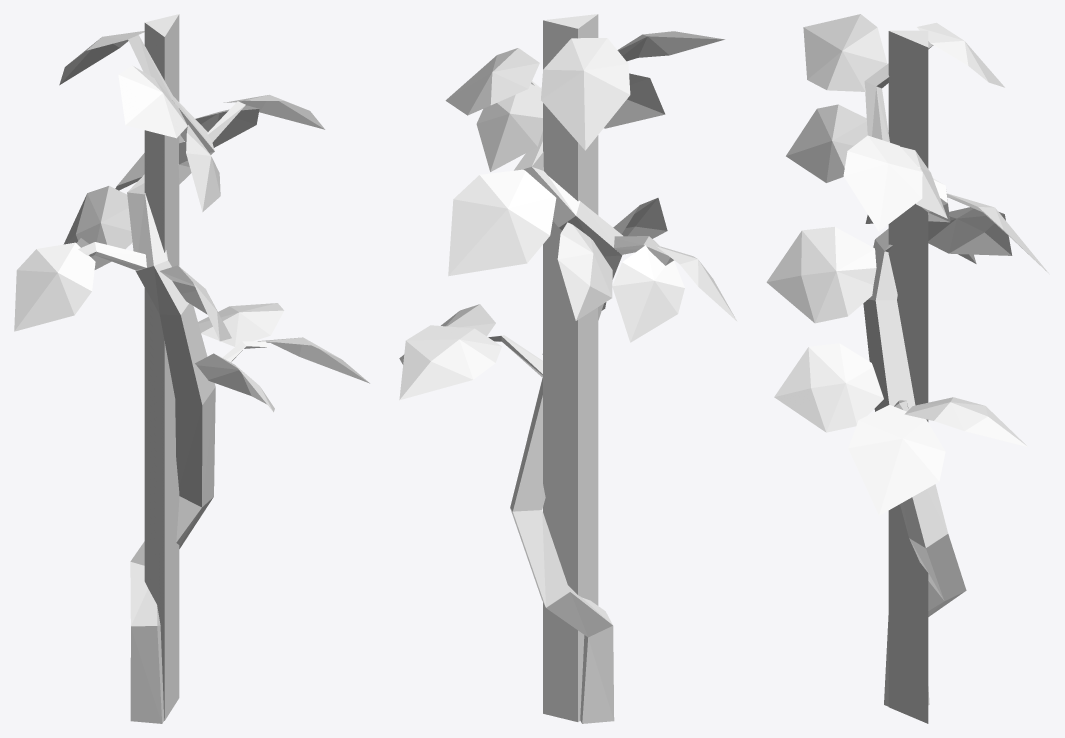
File: Crop_Bean_STAGE_4_01.glb
The picture shows the model from 3 angles, left to right: view 1: azimuth 30°, elevation 25°; view 2: azimuth 150°, elevation 25°; view 3: azimuth 270°, elevation 25°; orthographic projection. The views are drawn at different scales.
Visible parts, largest first — view 1: Crop_Bean_STAGE_4_01; view 2: Crop_Bean_STAGE_4_01; view 3: Crop_Bean_STAGE_4_01.
Part boxes in pixels (x1,y1,x2,y2): Crop_Bean_STAGE_4_01: (14, 14, 369, 723); Crop_Bean_STAGE_4_01: (399, 14, 737, 723); Crop_Bean_STAGE_4_01: (766, 14, 1049, 723).
Bounding box in the file's own units: 0.605 × 1.15 × 0.436.
1 material, 1 textured.
